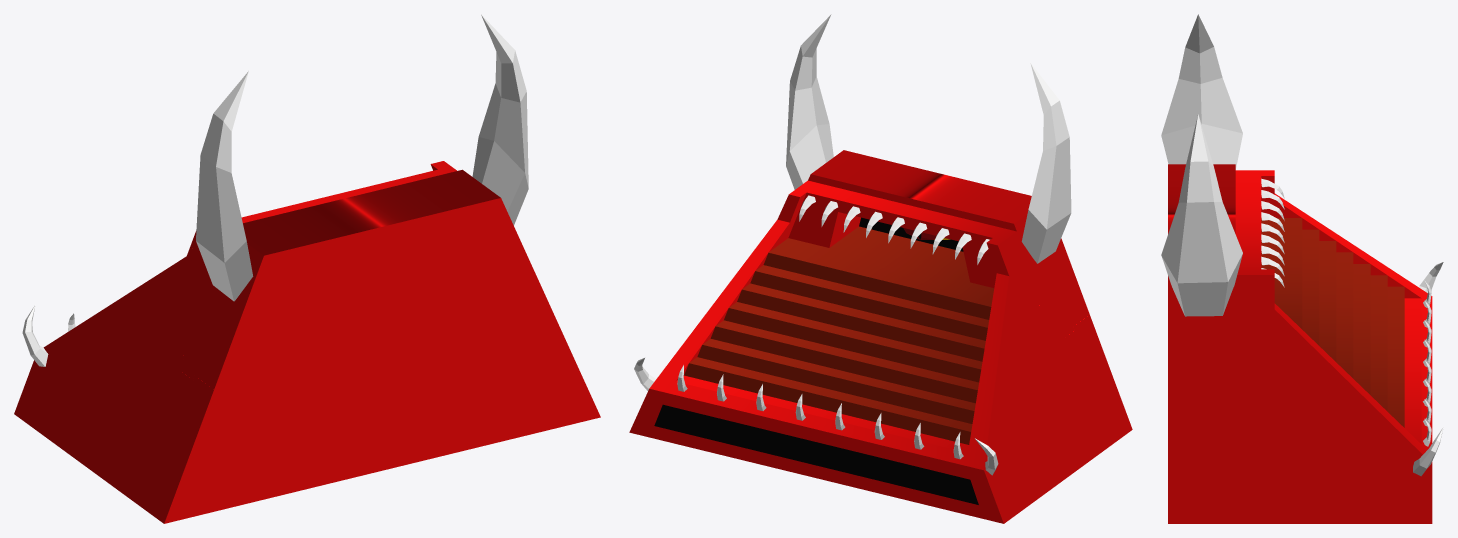
File: grandStand_3.fbx
3 renders of one model, left to right at view 1: azimuth 30°, elevation 25°; view 2: azimuth 150°, elevation 25°; view 3: azimuth 270°, elevation 25°, orthographic. The views are drawn at different scales.
Parts seen in each view (by area): view 1: grandStand_3; view 2: grandStand_3; view 3: grandStand_3.
Boxes of the visible parts, x1,y1,x2,y2 form: grandStand_3: [14, 14, 600, 523]; grandStand_3: [629, 14, 1132, 523]; grandStand_3: [1161, 14, 1443, 523].
Bounding box in the file's own units: 1680 × 1069 × 1528.
